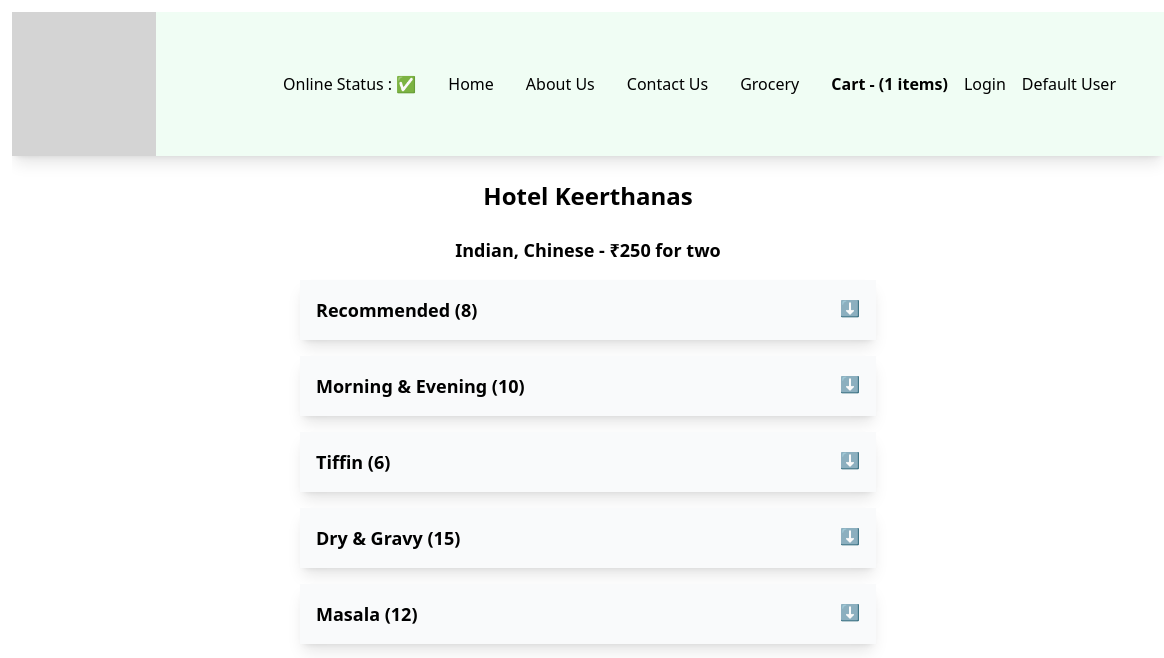
Test: Should check whether Cart - (2 items) is present in header when two items are added in the cart
Step 1. Click the text "Recommended (8)" → (397, 310), box [316, 296, 477, 324]
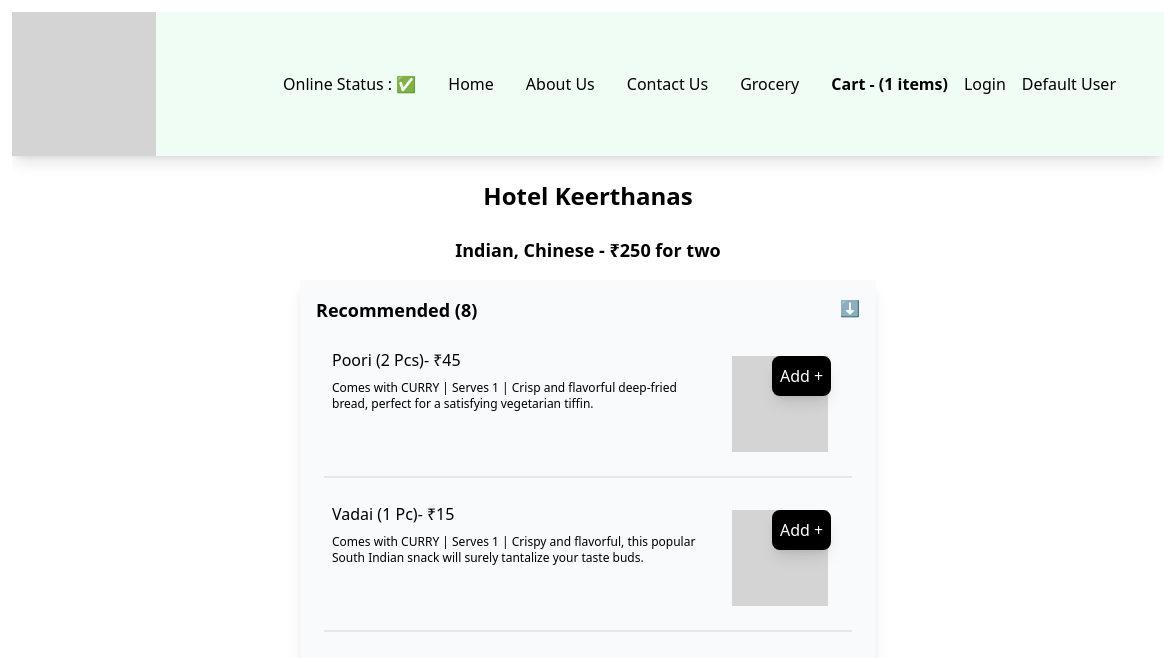
Note: Already in previous click one item is added in the cart and now we add another one
Step 2. Click the button "Add +" in the row of "Vadai (1 Pc)" → (802, 530), box [772, 510, 831, 550]
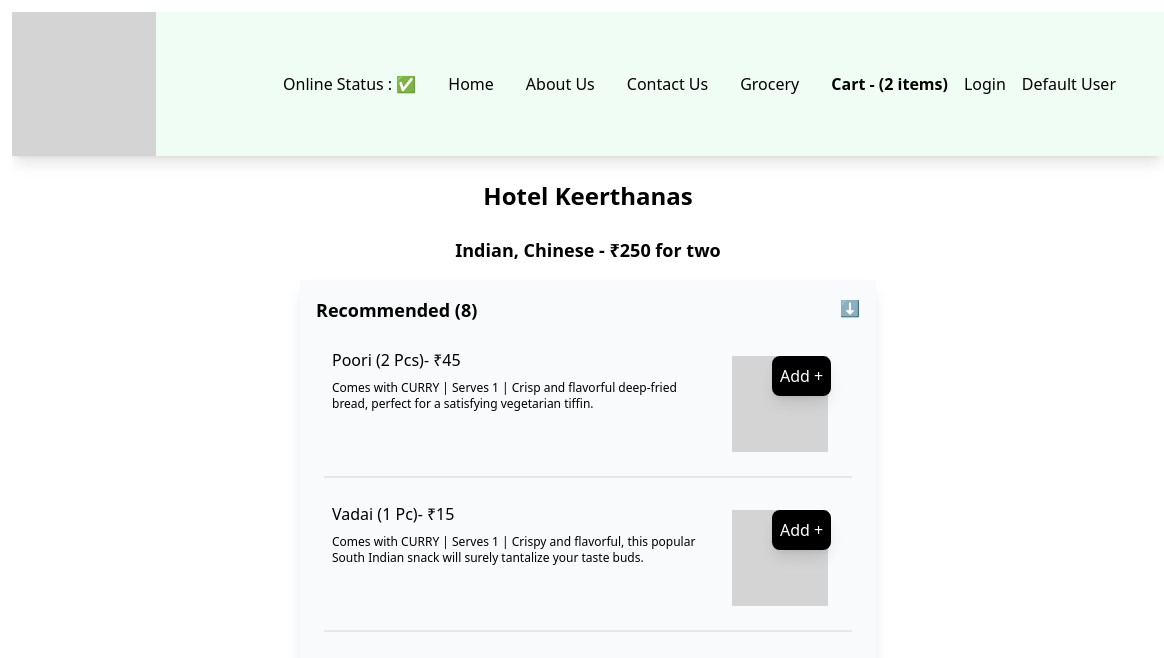
expect the link "Cart - (2 items)" is shown: met, box [831, 73, 948, 95]
